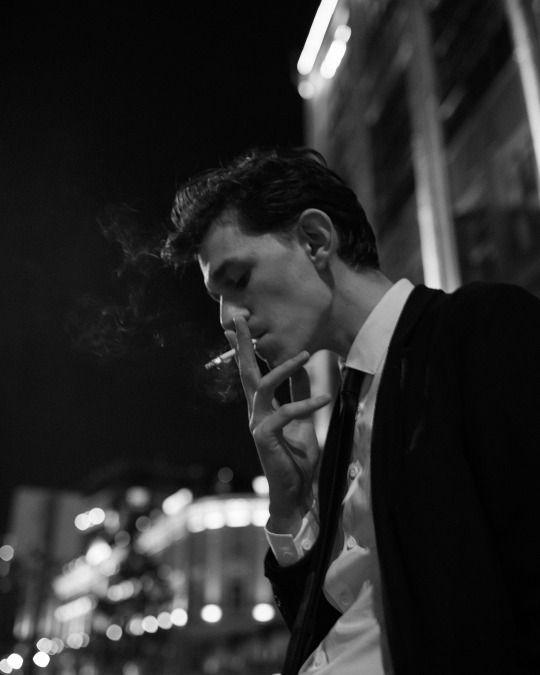cigarette: (204, 338, 258, 370)
